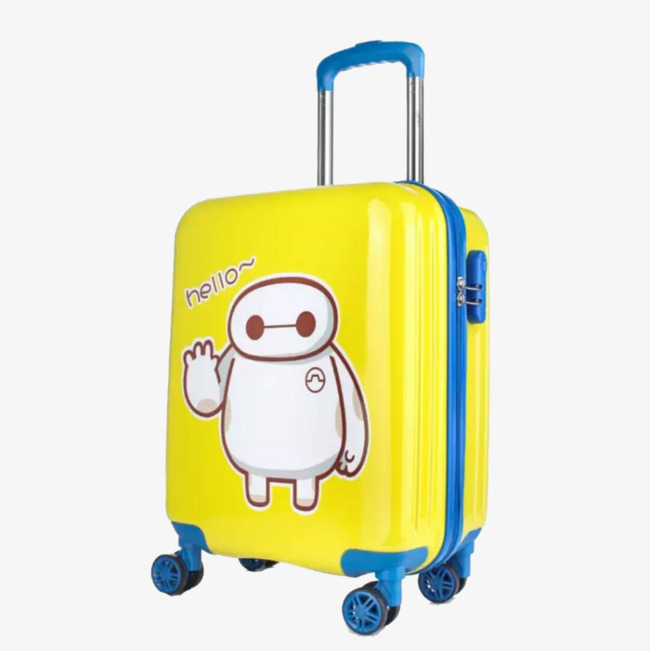box: (168, 182, 488, 577)
lock: (455, 249, 487, 323)
wheel: (341, 581, 400, 635), (151, 551, 204, 596), (417, 563, 468, 604)
